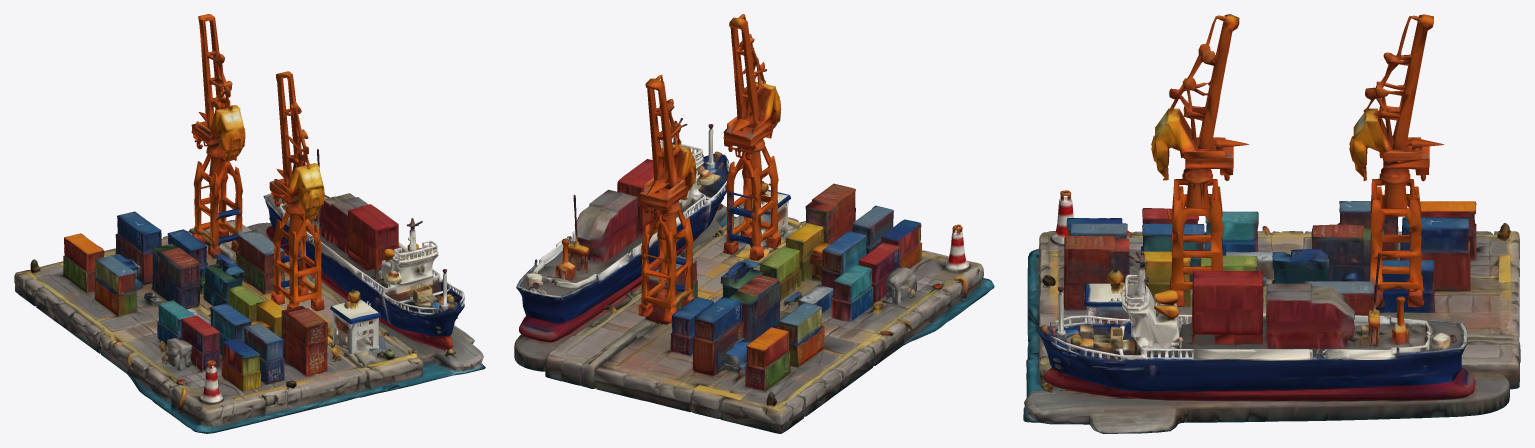
File: port_container.glb
The picture shows the model from 3 angles, left to right: view 1: azimuth 30°, elevation 25°; view 2: azimuth 150°, elevation 25°; view 3: azimuth 270°, elevation 25°; orthographic projection. The views are drawn at different scales.
Visible parts, largest first — view 1: tripo_node_d4784648-1577-4eb2-8c41-1167e29014a2; view 2: tripo_node_d4784648-1577-4eb2-8c41-1167e29014a2; view 3: tripo_node_d4784648-1577-4eb2-8c41-1167e29014a2.
Part boxes in pixels (bbox=[...]): tripo_node_d4784648-1577-4eb2-8c41-1167e29014a2: bbox=[14, 14, 485, 433]; tripo_node_d4784648-1577-4eb2-8c41-1167e29014a2: bbox=[514, 14, 994, 433]; tripo_node_d4784648-1577-4eb2-8c41-1167e29014a2: bbox=[1023, 14, 1520, 433].
Bounding box in the file's own units: 0.8667 × 0.7275 × 0.9804.
1 material, 1 textured.
